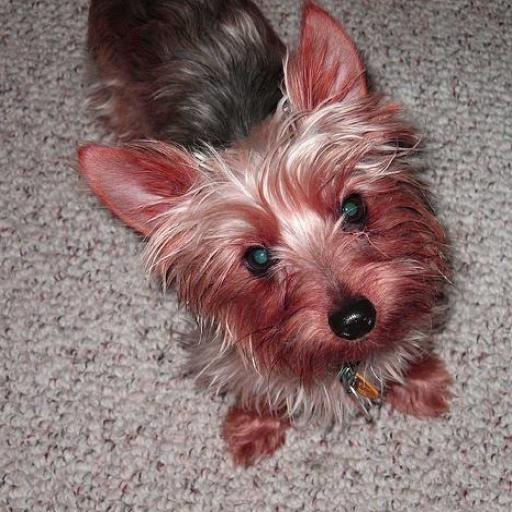dog_face: (66, 9, 427, 386)
